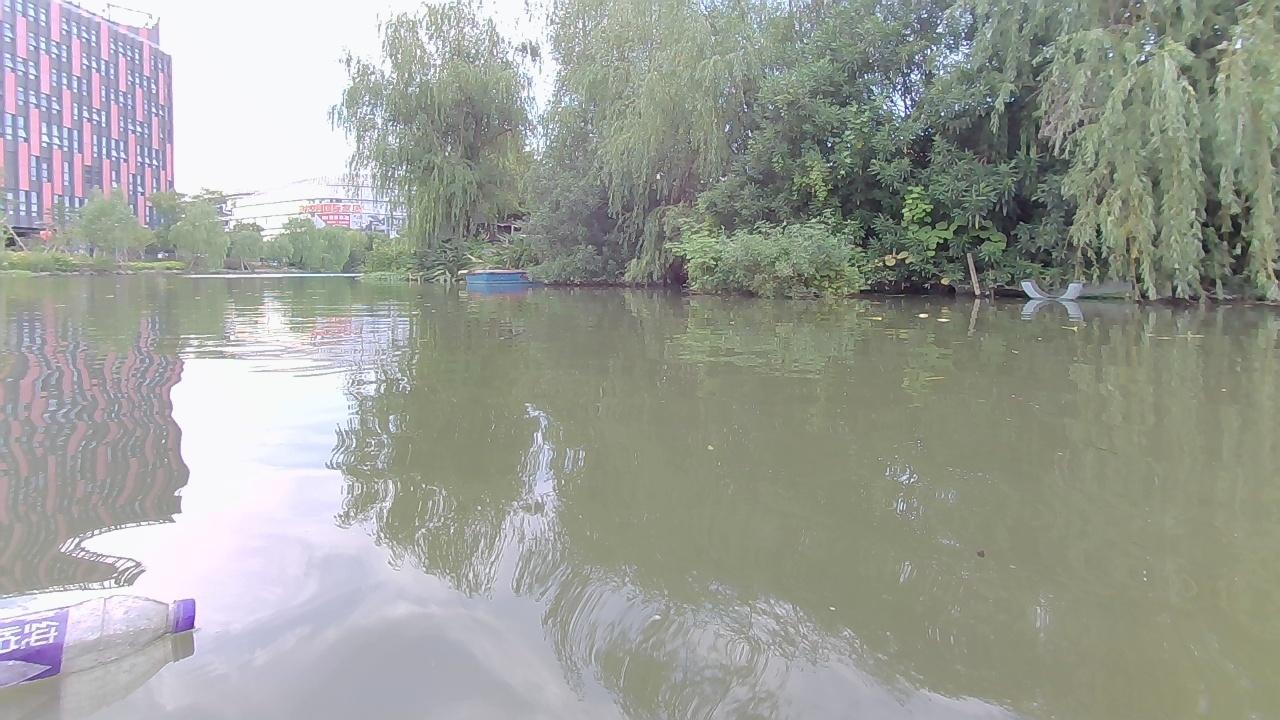bottle: (0, 591, 195, 682)
